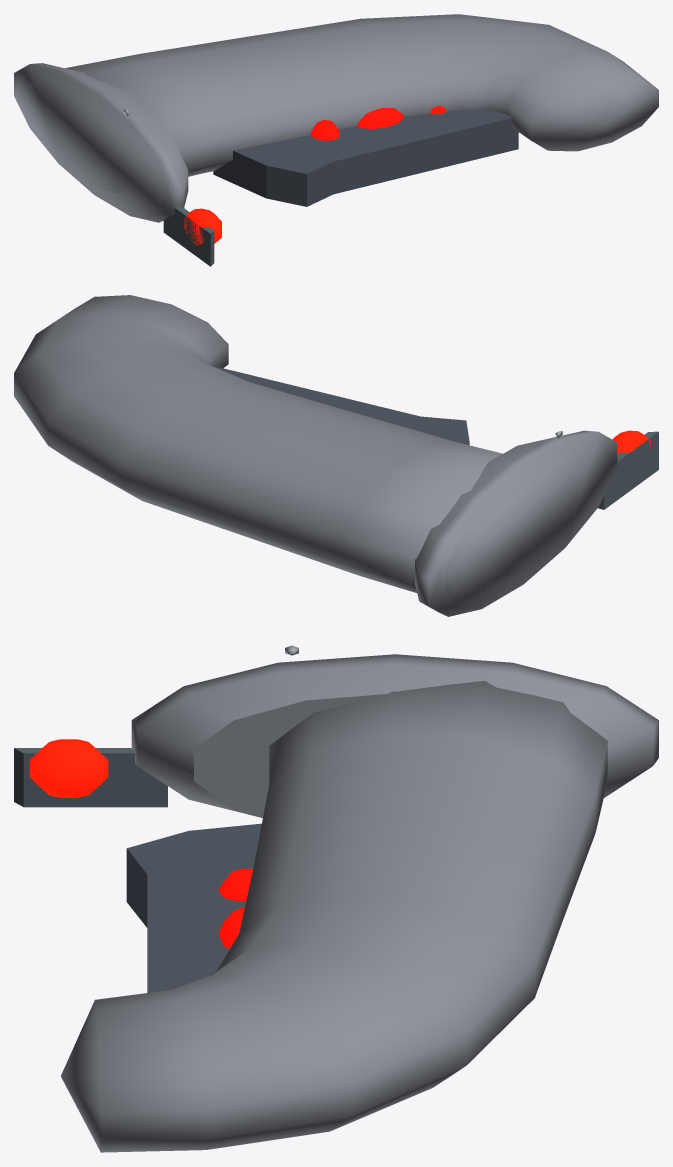
File: newshv-46.glb
The picture shows the model from 3 angles, top to bottom: view 1: azimuth 30°, elevation 25°; view 2: azimuth 150°, elevation 25°; view 3: azimuth 270°, elevation 25°; orthographic projection. The views are drawn at different scales.
Parts seen in each view (by area): view 1: newshv-46; view 2: newshv-46; view 3: newshv-46.
Part boxes in pixels (x1,y1,x2,y2): newshv-46: (14, 14, 658, 266); newshv-46: (14, 295, 658, 616); newshv-46: (14, 645, 658, 1152).
Size of the model in its own units: 1.82 by 0.3972 by 1.3.
